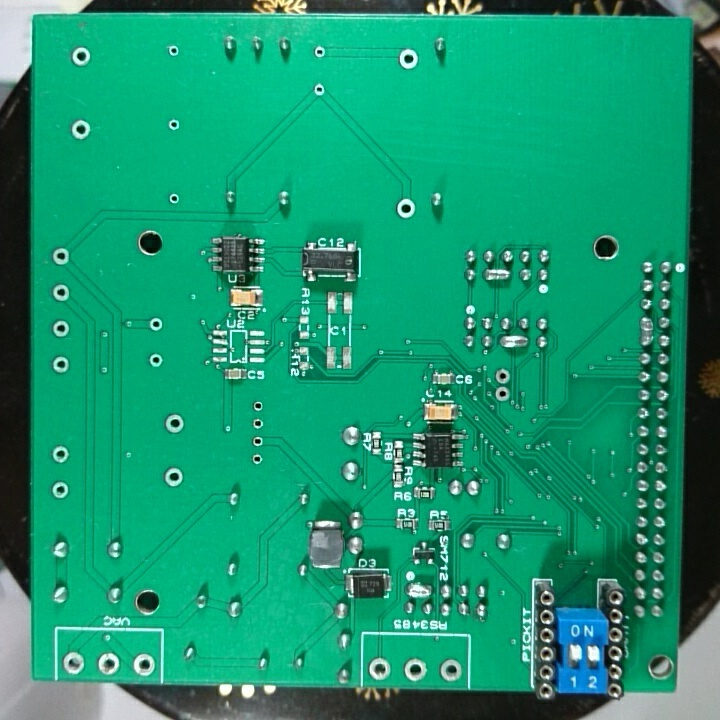F: (61, 649, 87, 678), (131, 650, 157, 678), (68, 116, 94, 143), (160, 464, 186, 491), (97, 650, 122, 678), (402, 656, 430, 681), (48, 244, 74, 270), (162, 410, 187, 437), (397, 45, 421, 73), (437, 657, 462, 683), (68, 43, 92, 70), (367, 656, 391, 683), (49, 279, 72, 307), (394, 195, 417, 221), (48, 443, 71, 466), (49, 477, 70, 502), (50, 352, 71, 376), (50, 317, 71, 340), (492, 384, 512, 406), (145, 350, 165, 372), (311, 42, 330, 63), (248, 450, 267, 470), (145, 316, 164, 335), (493, 366, 511, 386), (311, 80, 328, 100), (165, 116, 182, 135), (165, 189, 182, 208), (248, 431, 265, 450), (165, 42, 182, 60), (249, 415, 267, 432), (251, 398, 266, 414)
P: (498, 330, 530, 352), (638, 312, 657, 349), (481, 264, 512, 286), (404, 580, 435, 600)
